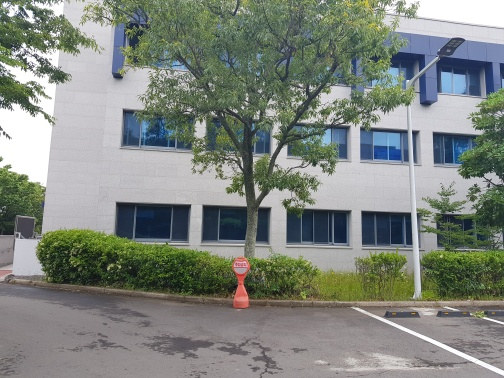College of Social Sciences: (36, 19, 504, 289)
